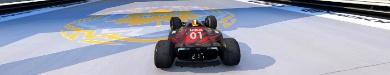Car: (153, 14, 241, 68)
